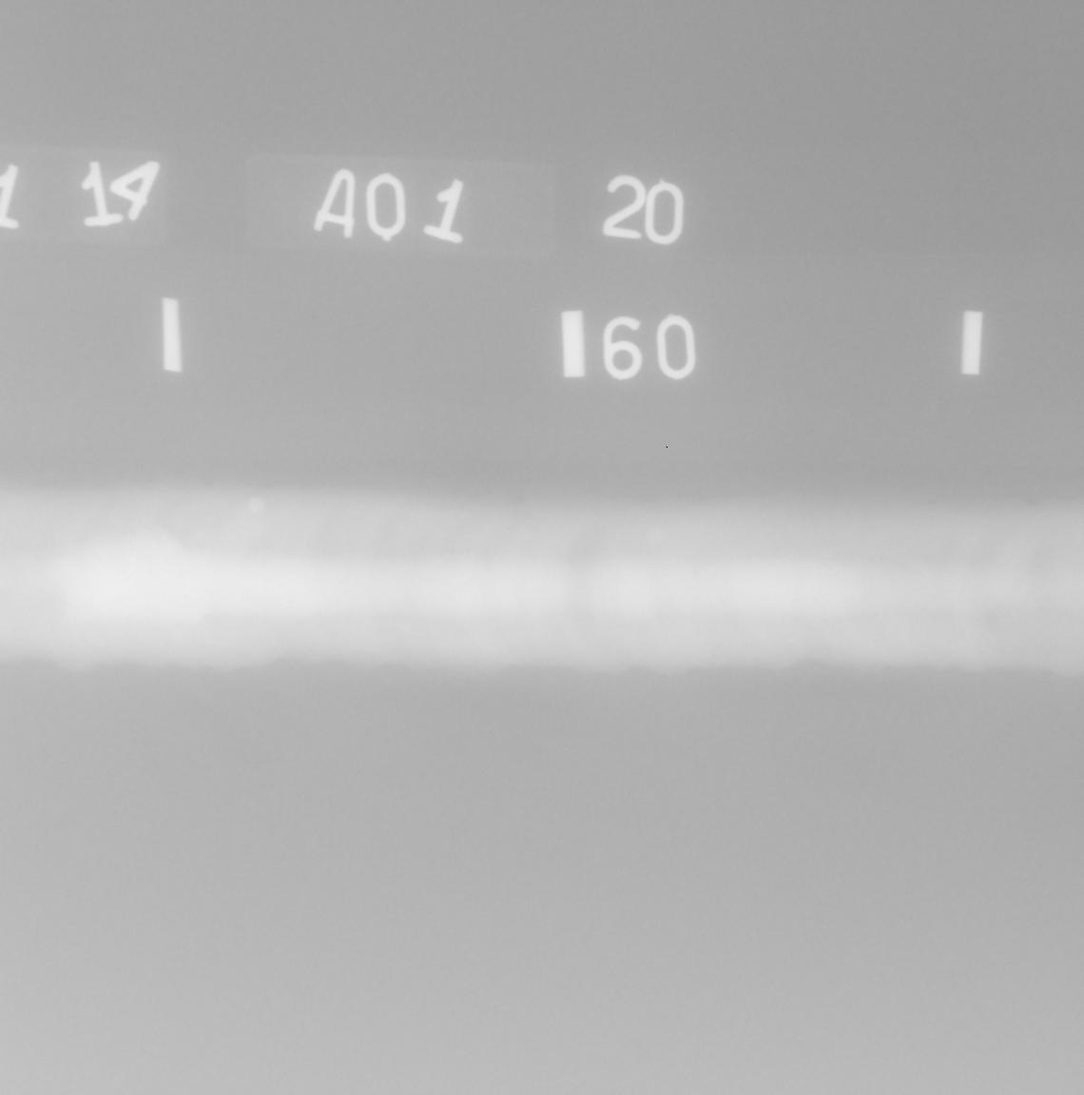Pore/Porosity: (514, 495, 524, 504)
